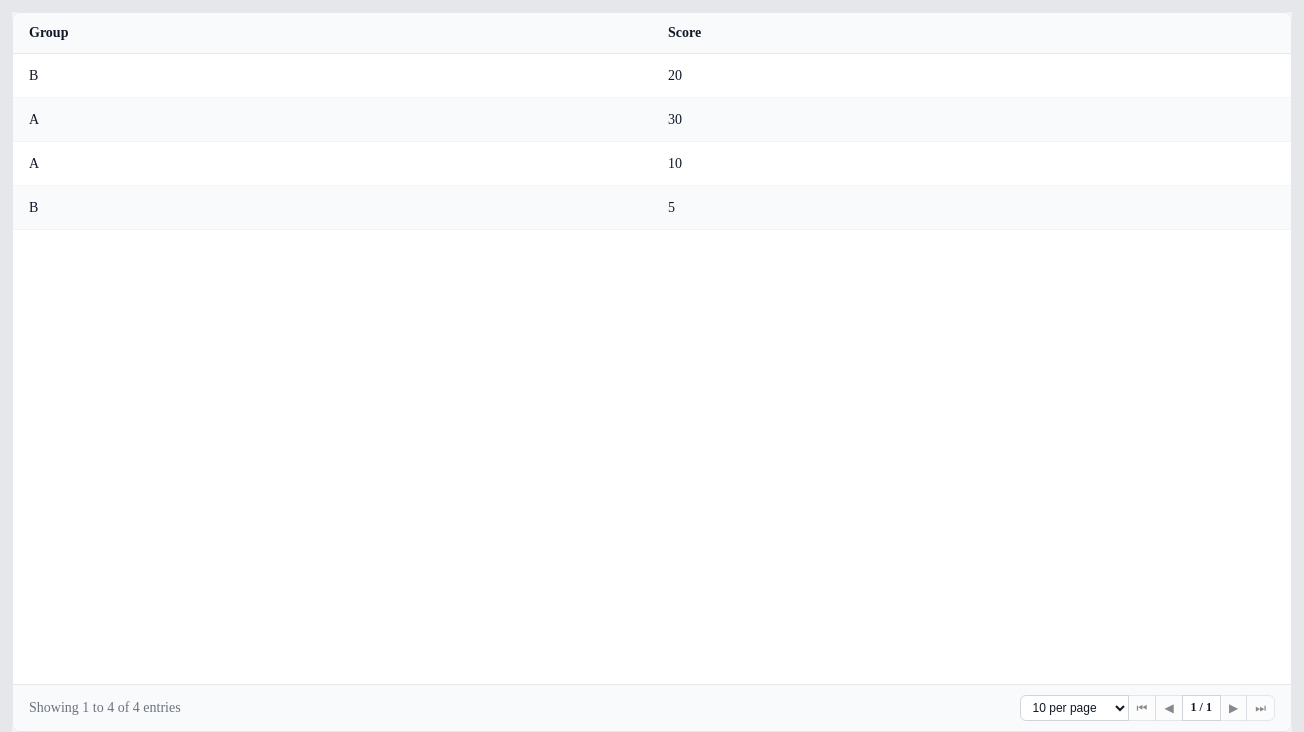
Test: DataTable Virtualized Component › multi-column sort (issue #337) › shows a numbered priority badge only once a second column has actually joined the sort
Click the button "Group". click: (49, 32)
box: [13,13,652,53]
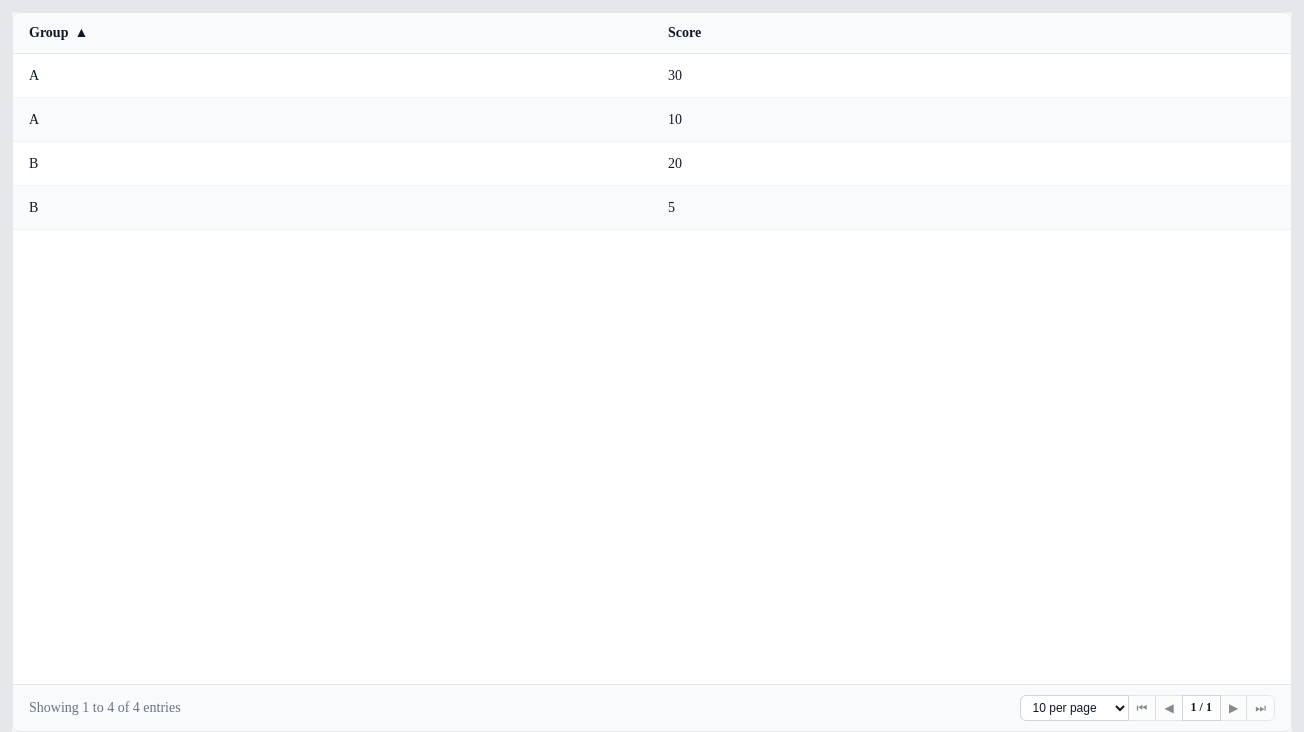
Click the button "Score". click: (685, 32)
box: [652,13,1291,53]
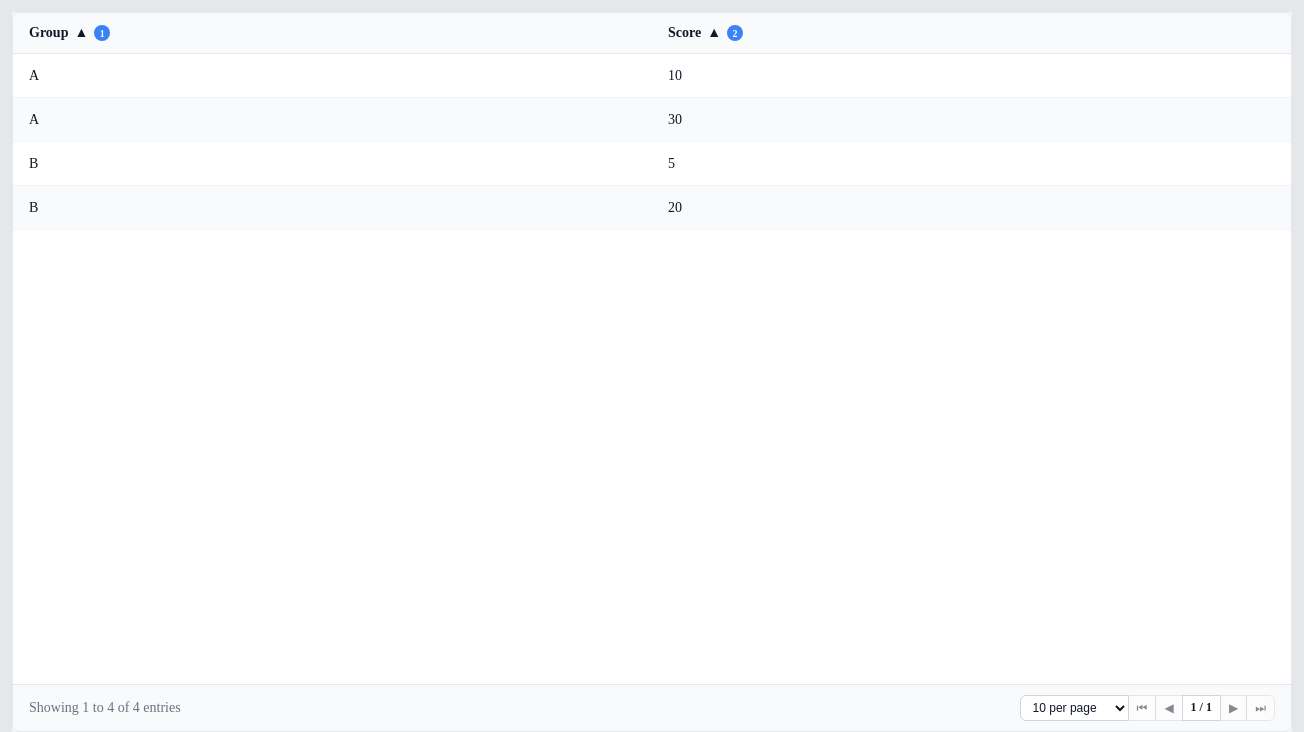
Check: the column heading "Group" shows "1", box [13,13,652,53]
Check: the column heading "Score" shows "2", box [652,13,1291,53]
